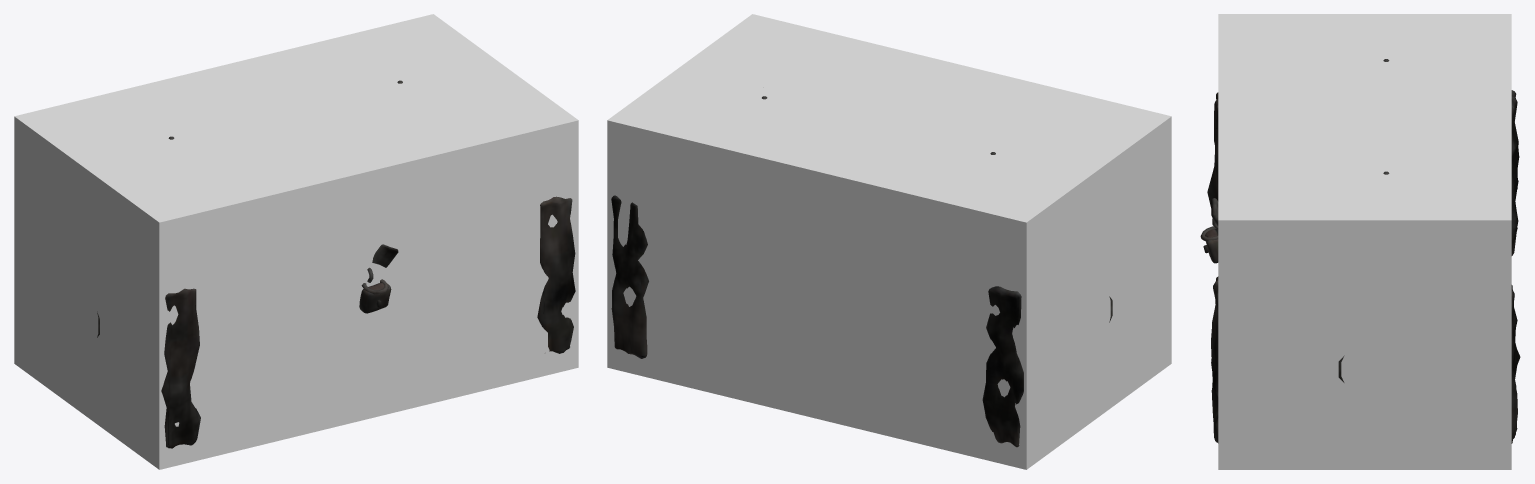
File: chest.glb
The picture shows the model from 3 angles, left to right: view 1: azimuth 30°, elevation 25°; view 2: azimuth 150°, elevation 25°; view 3: azimuth 270°, elevation 25°; orthographic projection.
Visible parts, largest first — view 1: col_chest, body; view 2: col_chest, body; view 3: col_chest, body.
Boxes of the visible parts, x1=… form: col_chest: x1=14, y1=14, x2=578, y2=469; body: x1=97, y1=196, x2=575, y2=448; col_chest: x1=607, y1=14, x2=1171, y2=469; body: x1=611, y1=195, x2=1112, y2=447; col_chest: x1=1218, y1=14, x2=1511, y2=469; body: x1=1200, y1=90, x2=1520, y2=443.
Bounding box in the file's own units: 1.1 × 0.6259 × 0.7207.
Materials: 1 (1 with a texture image).
